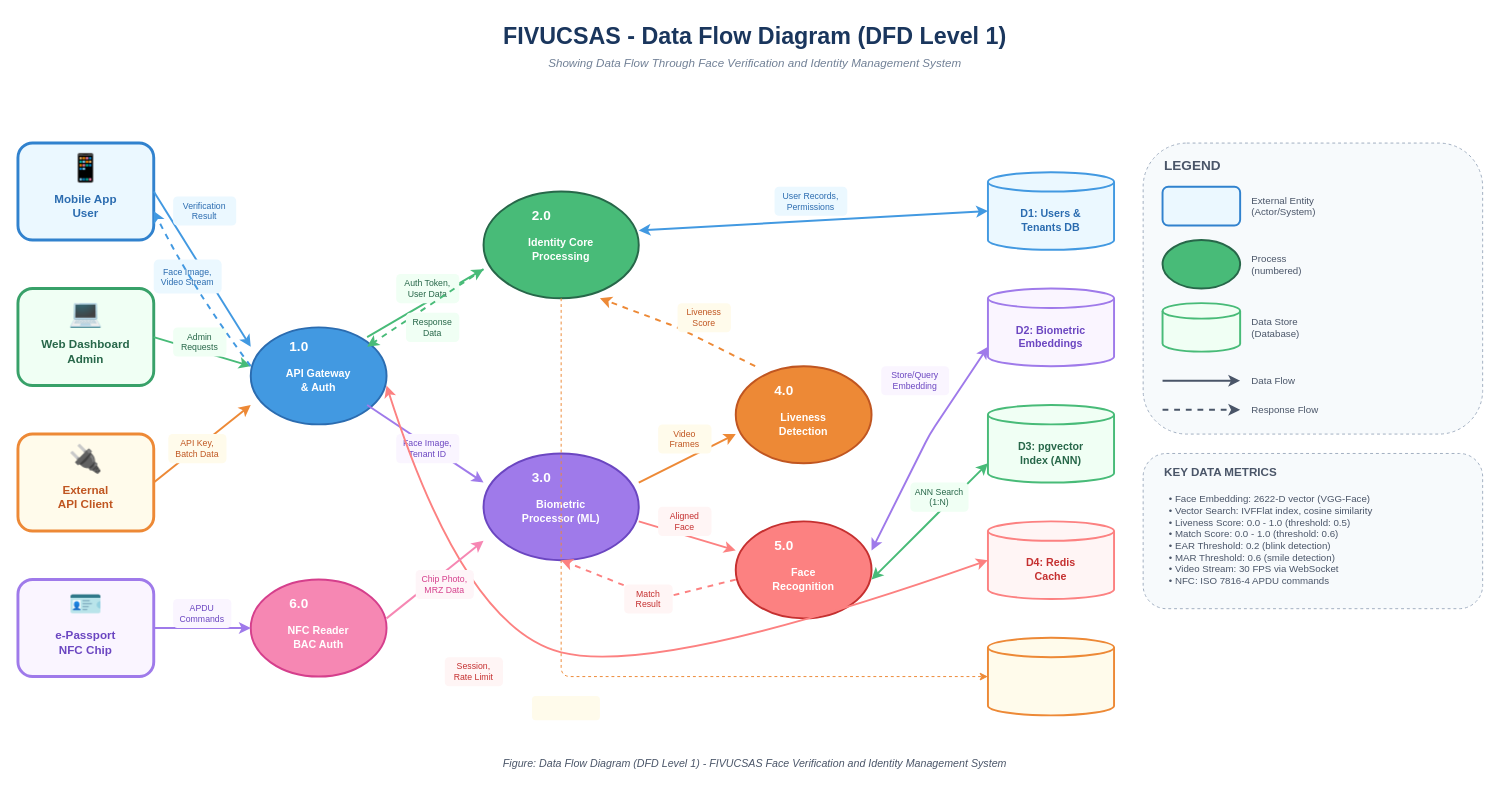
Some shapes in this 1500 by 790 pixel diagram are drawn without their labels. Each missing label, with the centre of its shape:
"Audit Events" belongs at (565,707).
"D5: Audit Logs" belongs at (1050,676).
